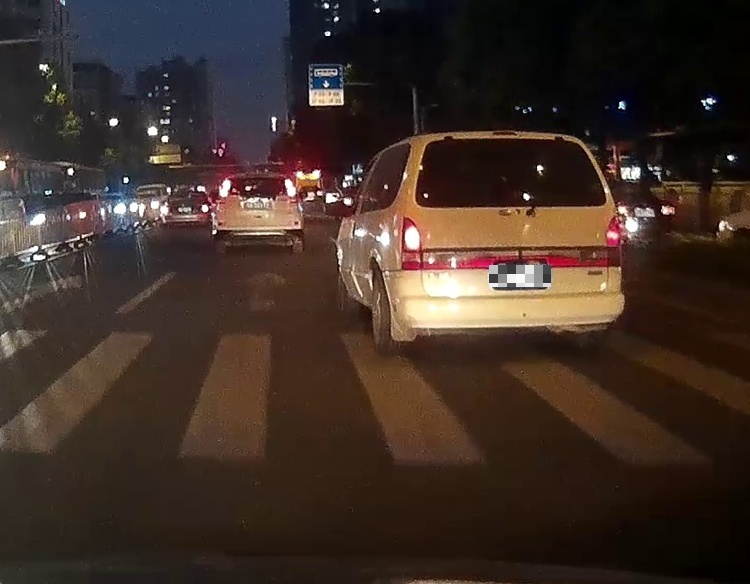L_light: (400, 216, 422, 271), (218, 178, 231, 204)
R_light: (605, 215, 622, 267), (284, 178, 297, 203)
T_light: (492, 131, 517, 136), (252, 177, 266, 180)
night-no: (391, 131, 625, 356), (211, 172, 304, 254)
plate_1: (489, 265, 551, 287)
